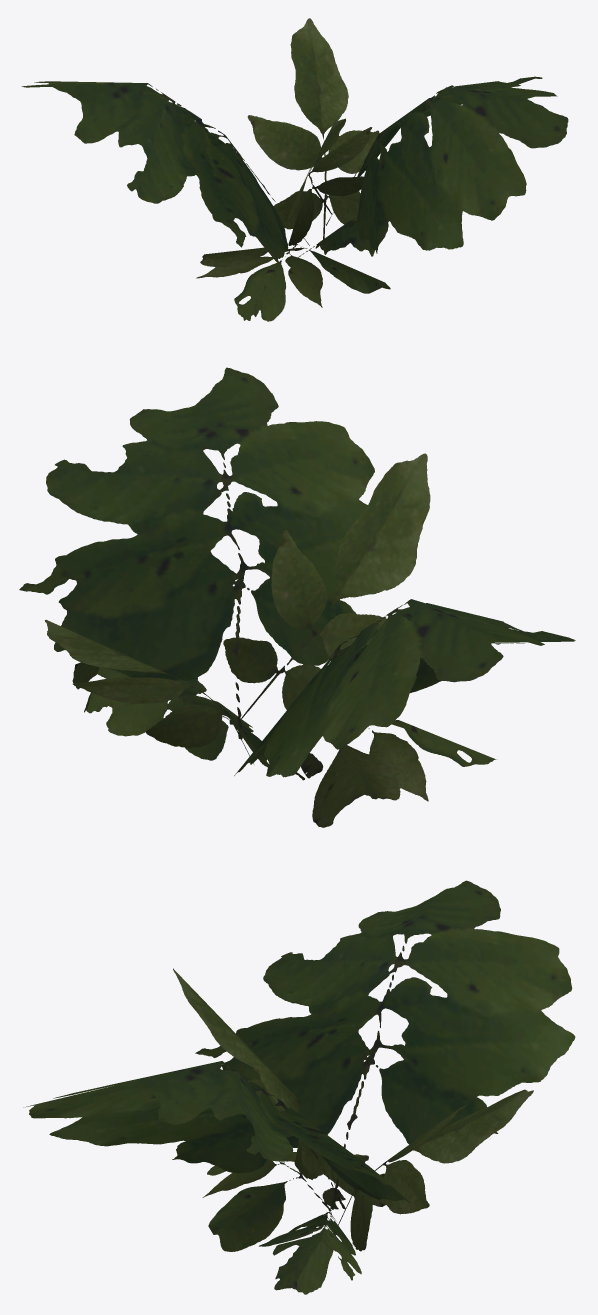
Rendered from prop_saplin_002_c.FBX.
3 views of the same model, one above another, from view 1: azimuth 30°, elevation 25°; view 2: azimuth 150°, elevation 25°; view 3: azimuth 270°, elevation 25° (orthographic). The views are drawn at different scales.
Visible parts, largest first — view 1: prop_saplin_002_c; view 2: prop_saplin_002_c; view 3: prop_saplin_002_c.
Part boxes in pixels (x1,y1,x2,y2): prop_saplin_002_c: (21,18,568,321); prop_saplin_002_c: (19,367,575,827); prop_saplin_002_c: (23,880,575,1294).
Bounding box in the file's own units: 1.33 × 1.27 × 0.6245.
1 material, 1 textured.
